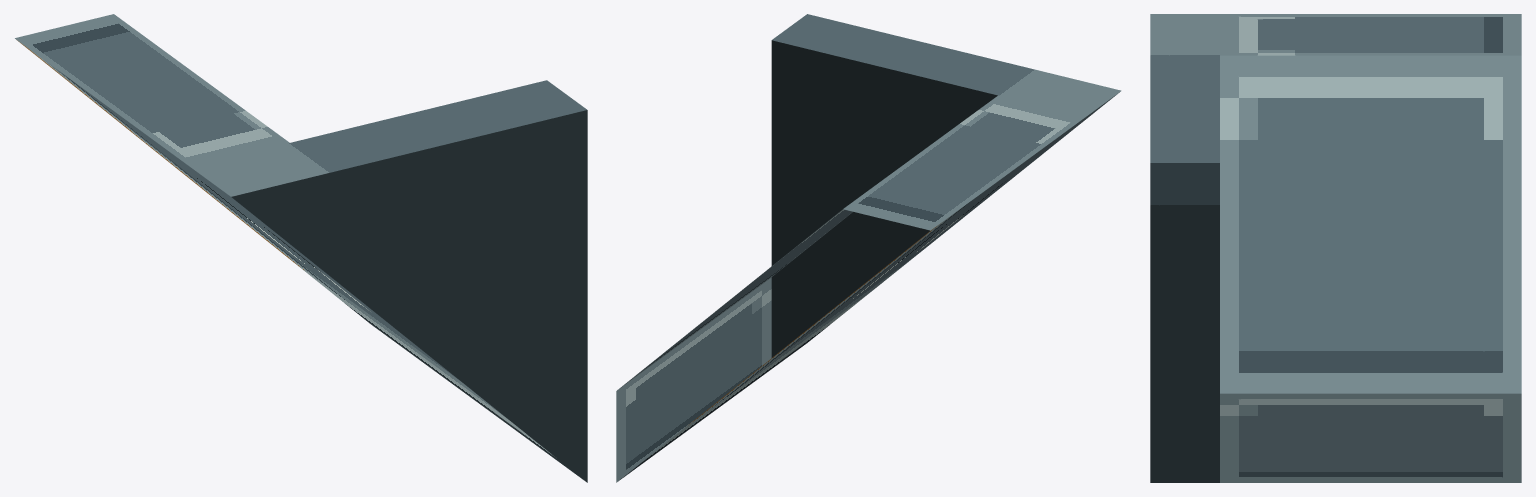
File: casing_d7_rear_x-2_y-3.obj
The picture shows the model from 3 angles, left to right: view 1: azimuth 30°, elevation 25°; view 2: azimuth 150°, elevation 25°; view 3: azimuth 270°, elevation 25°; orthographic projection. The views are drawn at different scales.
Parts seen in each view (by area): view 1: d7_rear_x-2_y-3; view 2: d7_rear_x-2_y-3; view 3: d7_rear_x-2_y-3.
Part boxes in pixels (x1=…): d7_rear_x-2_y-3: x1=15, y1=14, x2=587, y2=482; d7_rear_x-2_y-3: x1=616, y1=14, x2=1121, y2=482; d7_rear_x-2_y-3: x1=1150, y1=14, x2=1521, y2=482.
Size of the model in its own units: 0.9497 by 0.9497 by 1.
